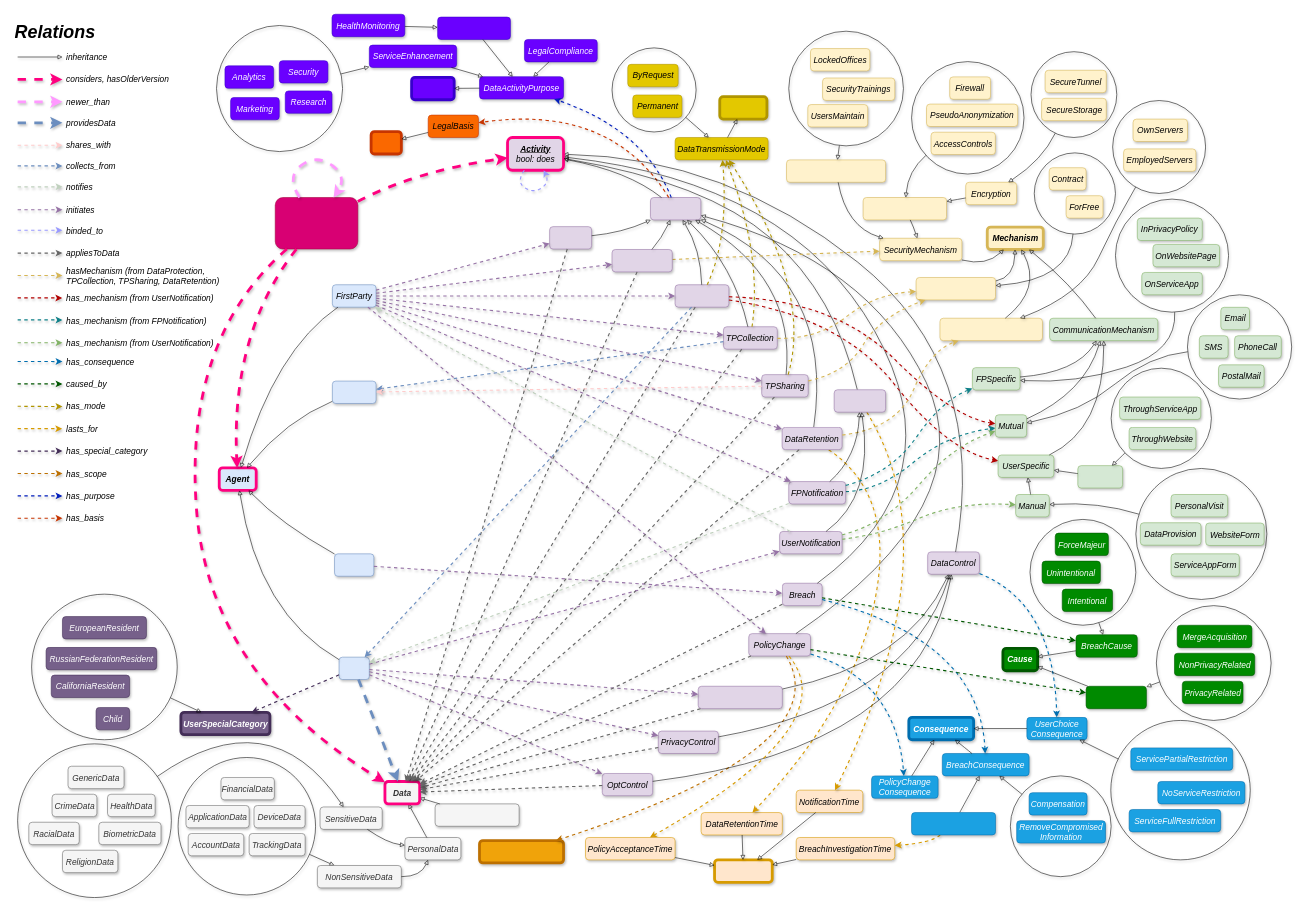
This 1305x911 diagram has some shape labels left out. Here are the shapes that lost their labels. From the top down, the centre of each, then its label:
the point at 474,28: ServiceProvision
the point at 433,89: Purpose
the point at 743,108: Mode
the point at 386,143: Basis
the point at 836,171: OrganizationalMeasures
the point at 316,224: PrivacyPolicy int: policyId str: policyWebsite date: policyUpdate
the point at 676,209: DataActivity
the point at 905,209: TechnicalMeasures
the point at 571,238: DataUse
the point at 642,261: DataProtection
the point at 702,296: FPCollection
the point at 956,289: TPS&CMechanism
the point at 991,330: DataRetentionMechanism
the point at 354,392: ThirdParty
the point at 860,401: Notification
the point at 1100,477: Automatic
the point at 354,565: Criminal
the point at 354,668: User
the point at 740,698: ProvidedDataControl
the point at 1116,698: PolicyChange Cause
the point at 477,815: NonPersonalData
the point at 954,824: BreachInvestigation
the point at 522,852: PolicyScopeChange
the point at 744,871: TimePeriod
